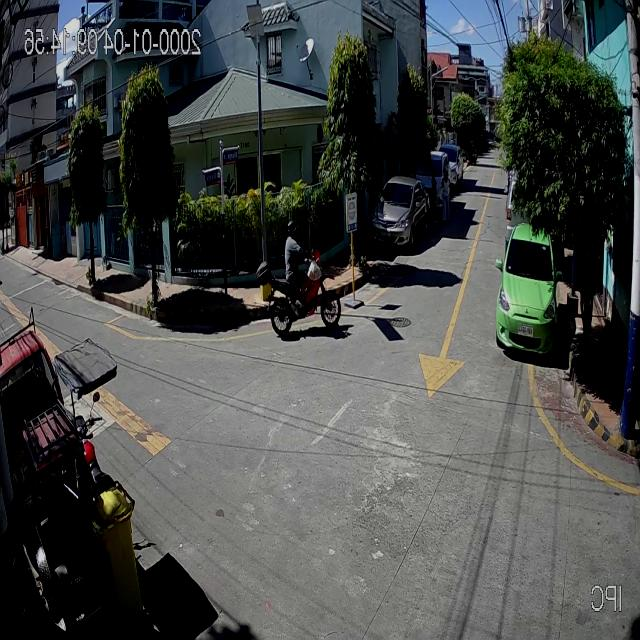standing: (427, 165, 439, 222), (440, 166, 451, 224)
